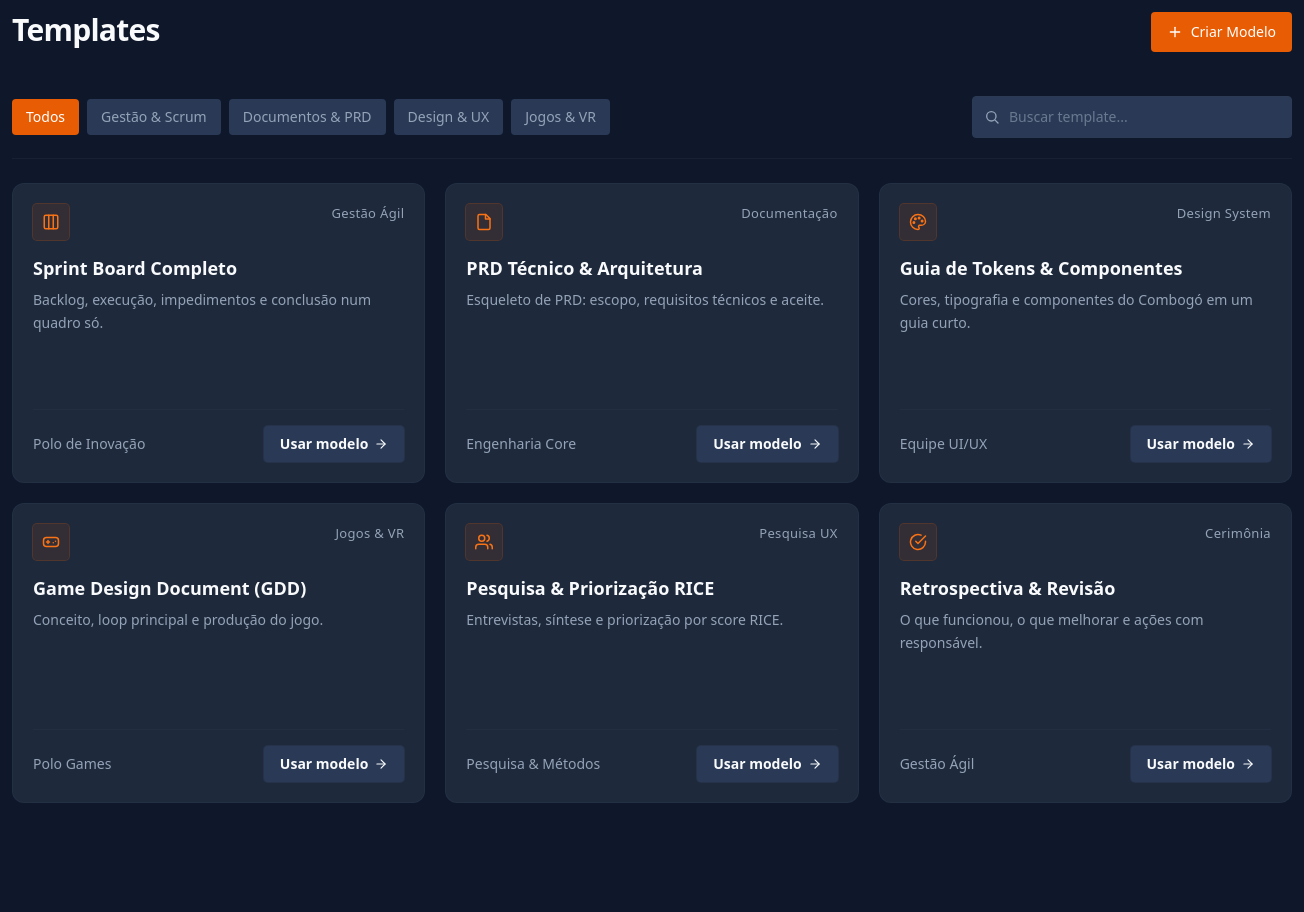
Test: Templates (janela) › “Usar modelo” cria a anotação e mostra toast
This screenshot has width=1304, height=912.
Click the button "Usar modelo" next to "Polo de Inovação" at [334, 444], box [264,426,404,462]
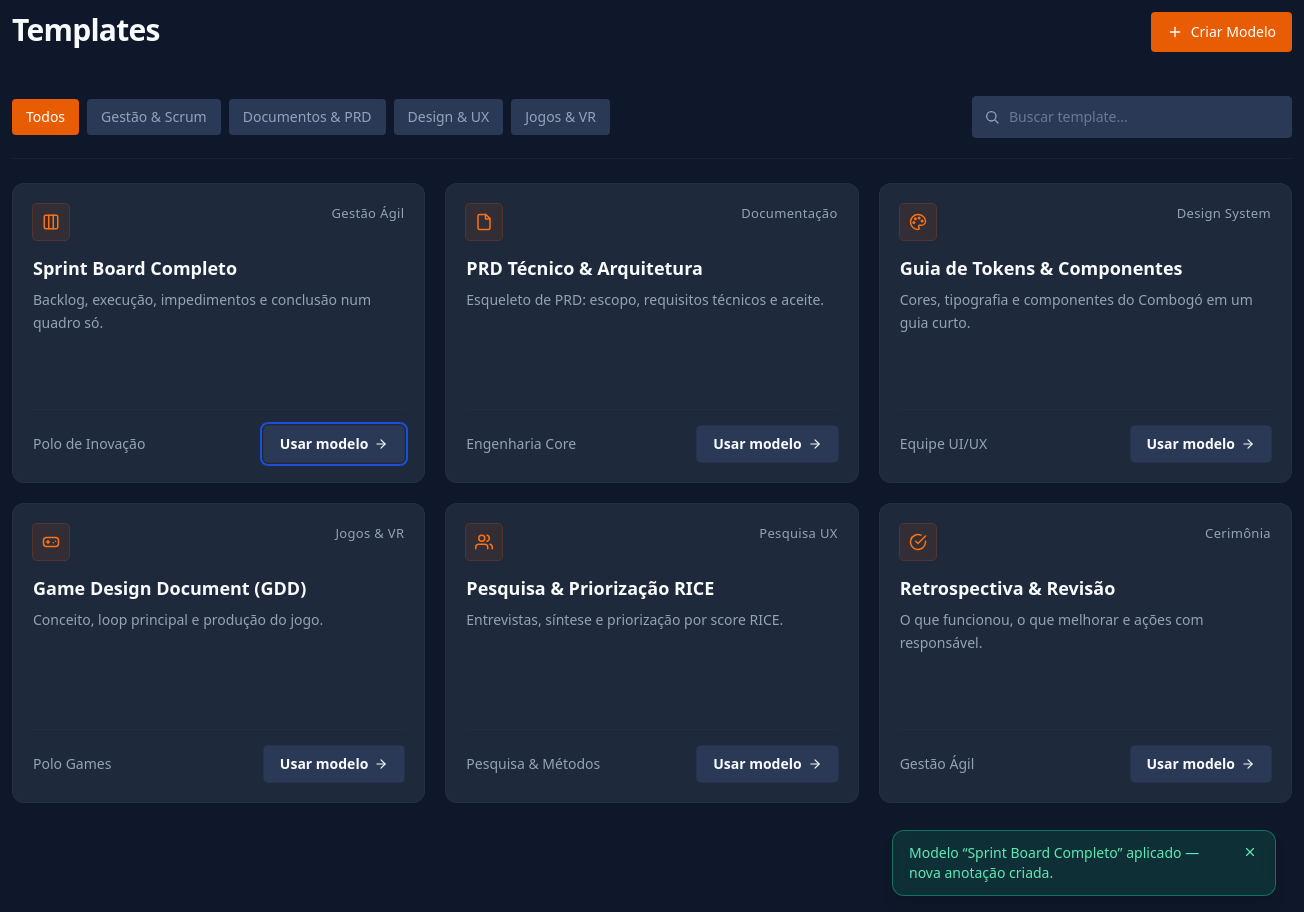
Result: the text "aplicado" is shown at [909,843,1199,882]
